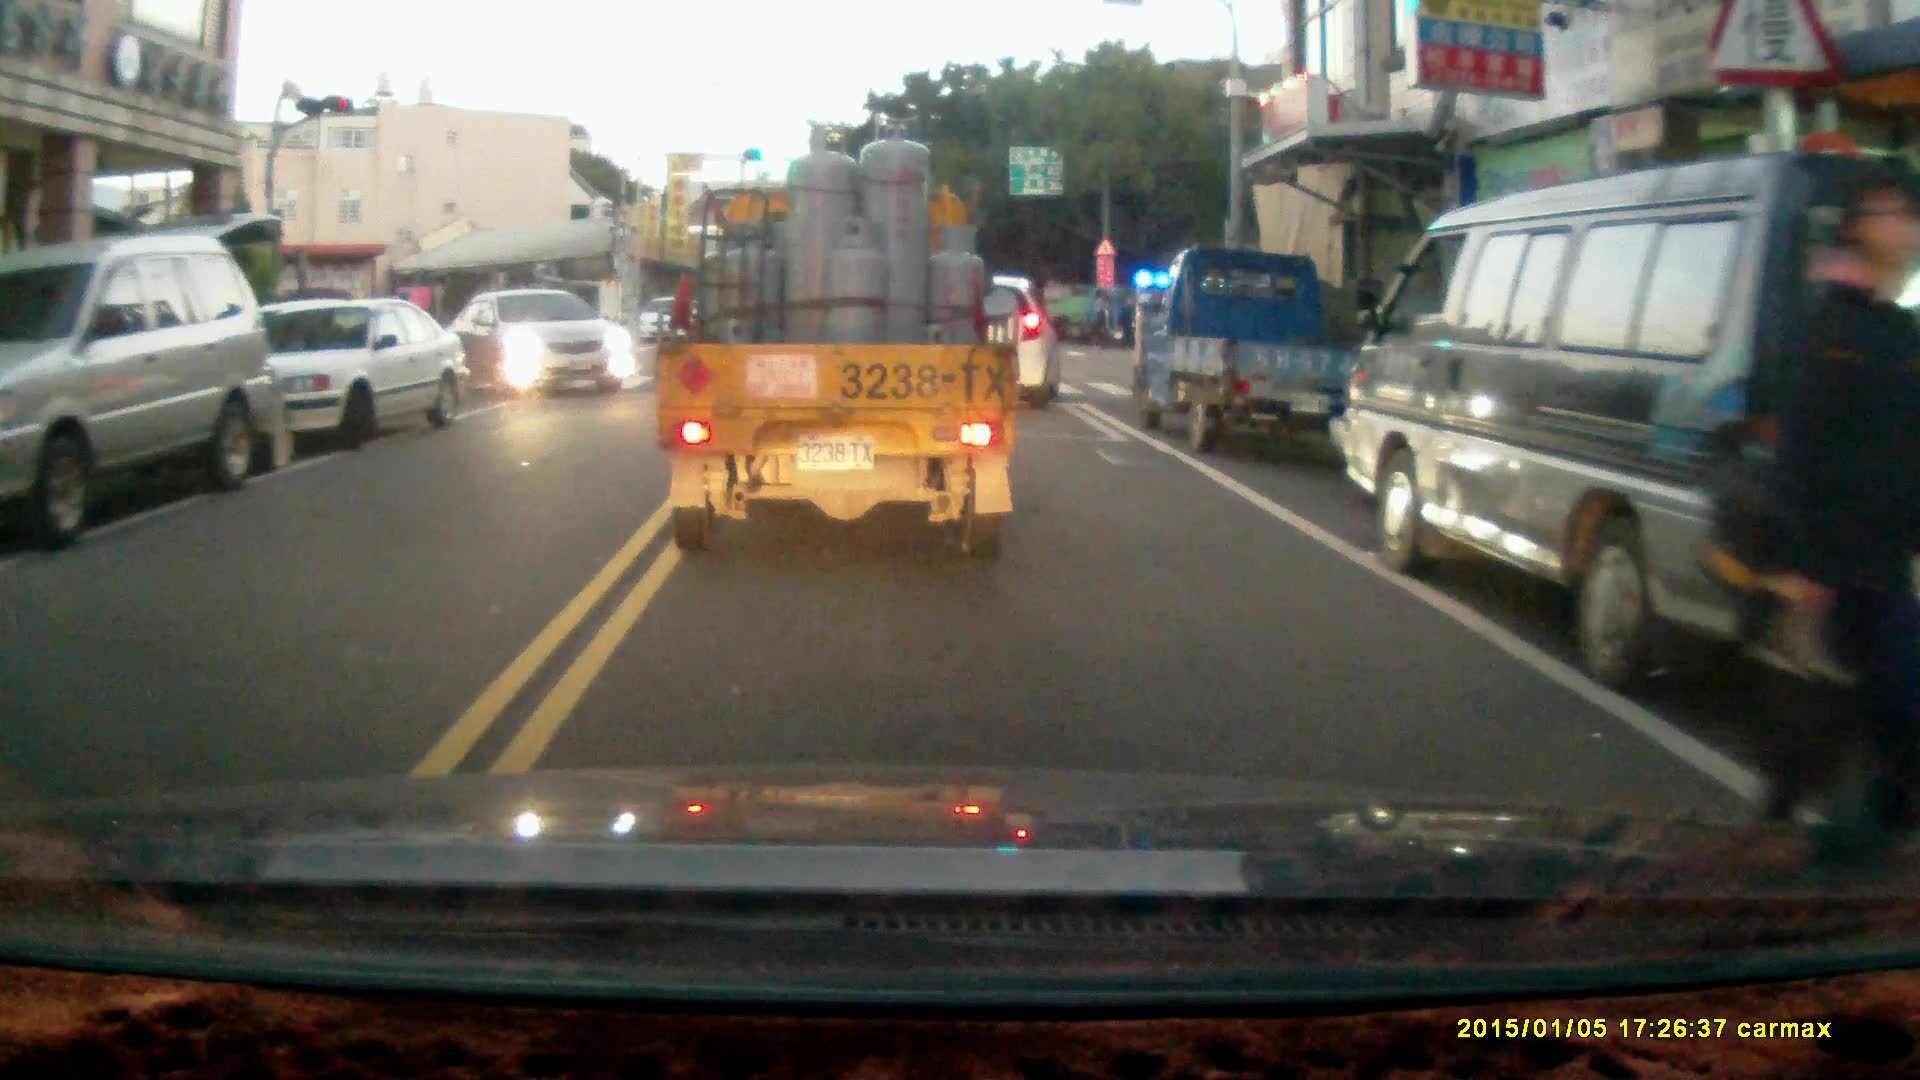pedestrian: (1748, 181, 1919, 868)
vehicle: (1329, 145, 1920, 707), (659, 120, 1029, 563), (1, 234, 271, 519), (1128, 240, 1364, 450), (221, 299, 469, 468), (893, 268, 1061, 409), (455, 287, 638, 401)
